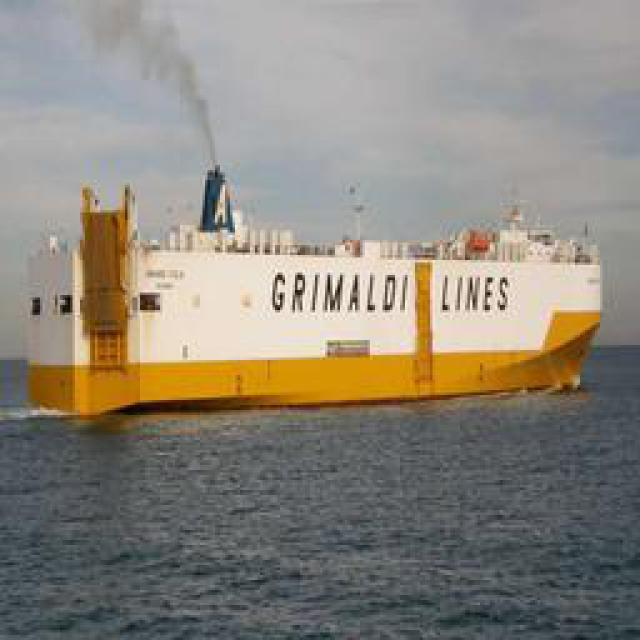Ship: (22, 115, 602, 413)
